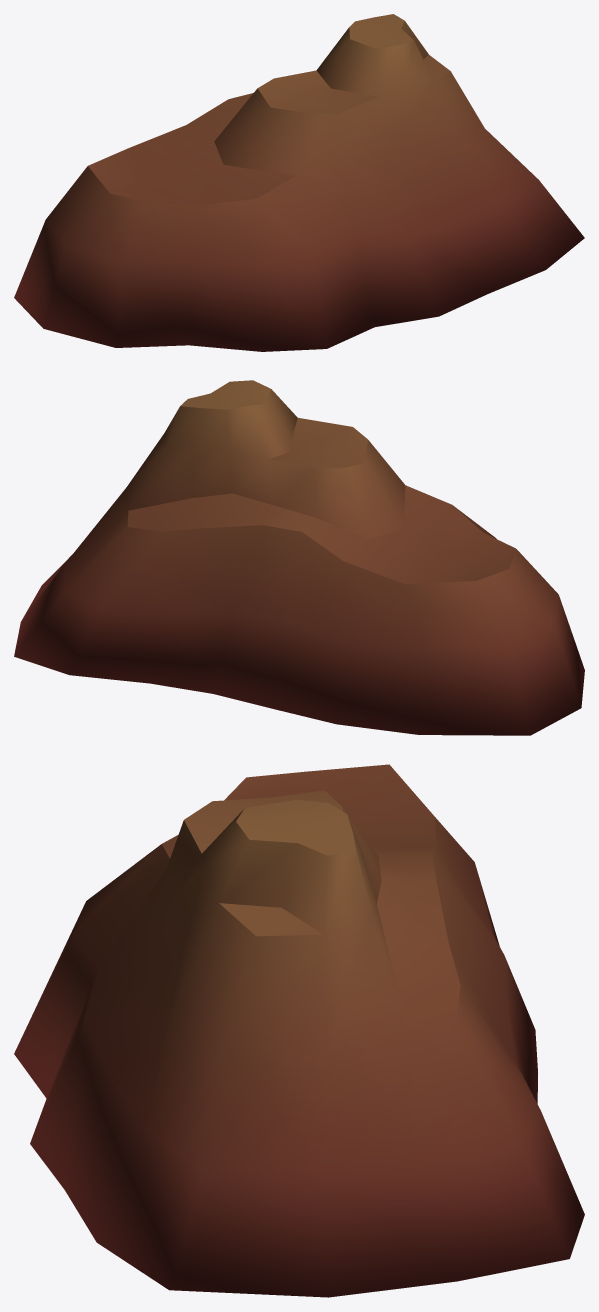
Rendered from Mountain_big.040.fbx.
The picture shows the model from 3 angles, top to bottom: view 1: azimuth 30°, elevation 25°; view 2: azimuth 150°, elevation 25°; view 3: azimuth 270°, elevation 25°; orthographic projection. The views are drawn at different scales.
Parts seen in each view (by area): view 1: Mountain_big.040; view 2: Mountain_big.040; view 3: Mountain_big.040.
Boxes of the visible parts, left/top/right/bottom form: Mountain_big.040: left=14, top=14, right=584, bottom=351; Mountain_big.040: left=14, top=380, right=584, bottom=735; Mountain_big.040: left=14, top=764, right=584, bottom=1297.
Bounding box in the file's own units: 544 × 224 × 335.
